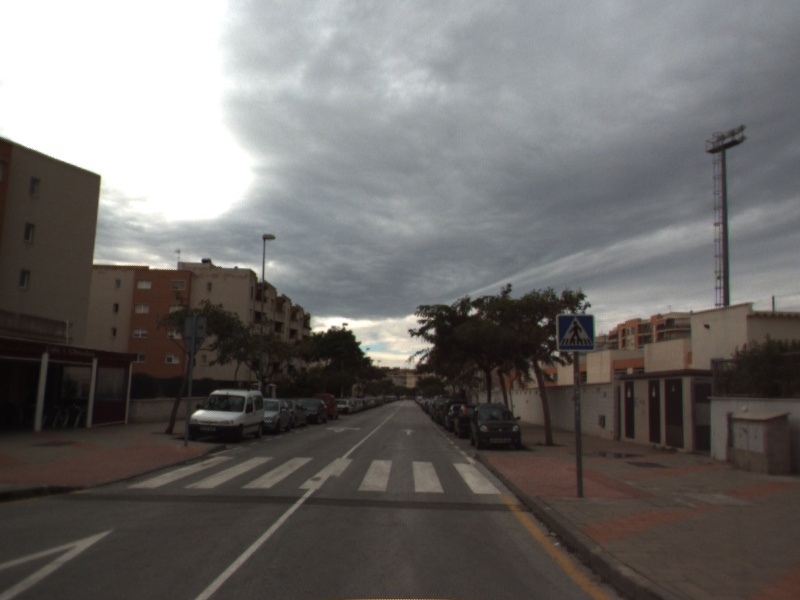STRAIGHT: (400, 426, 418, 437)
